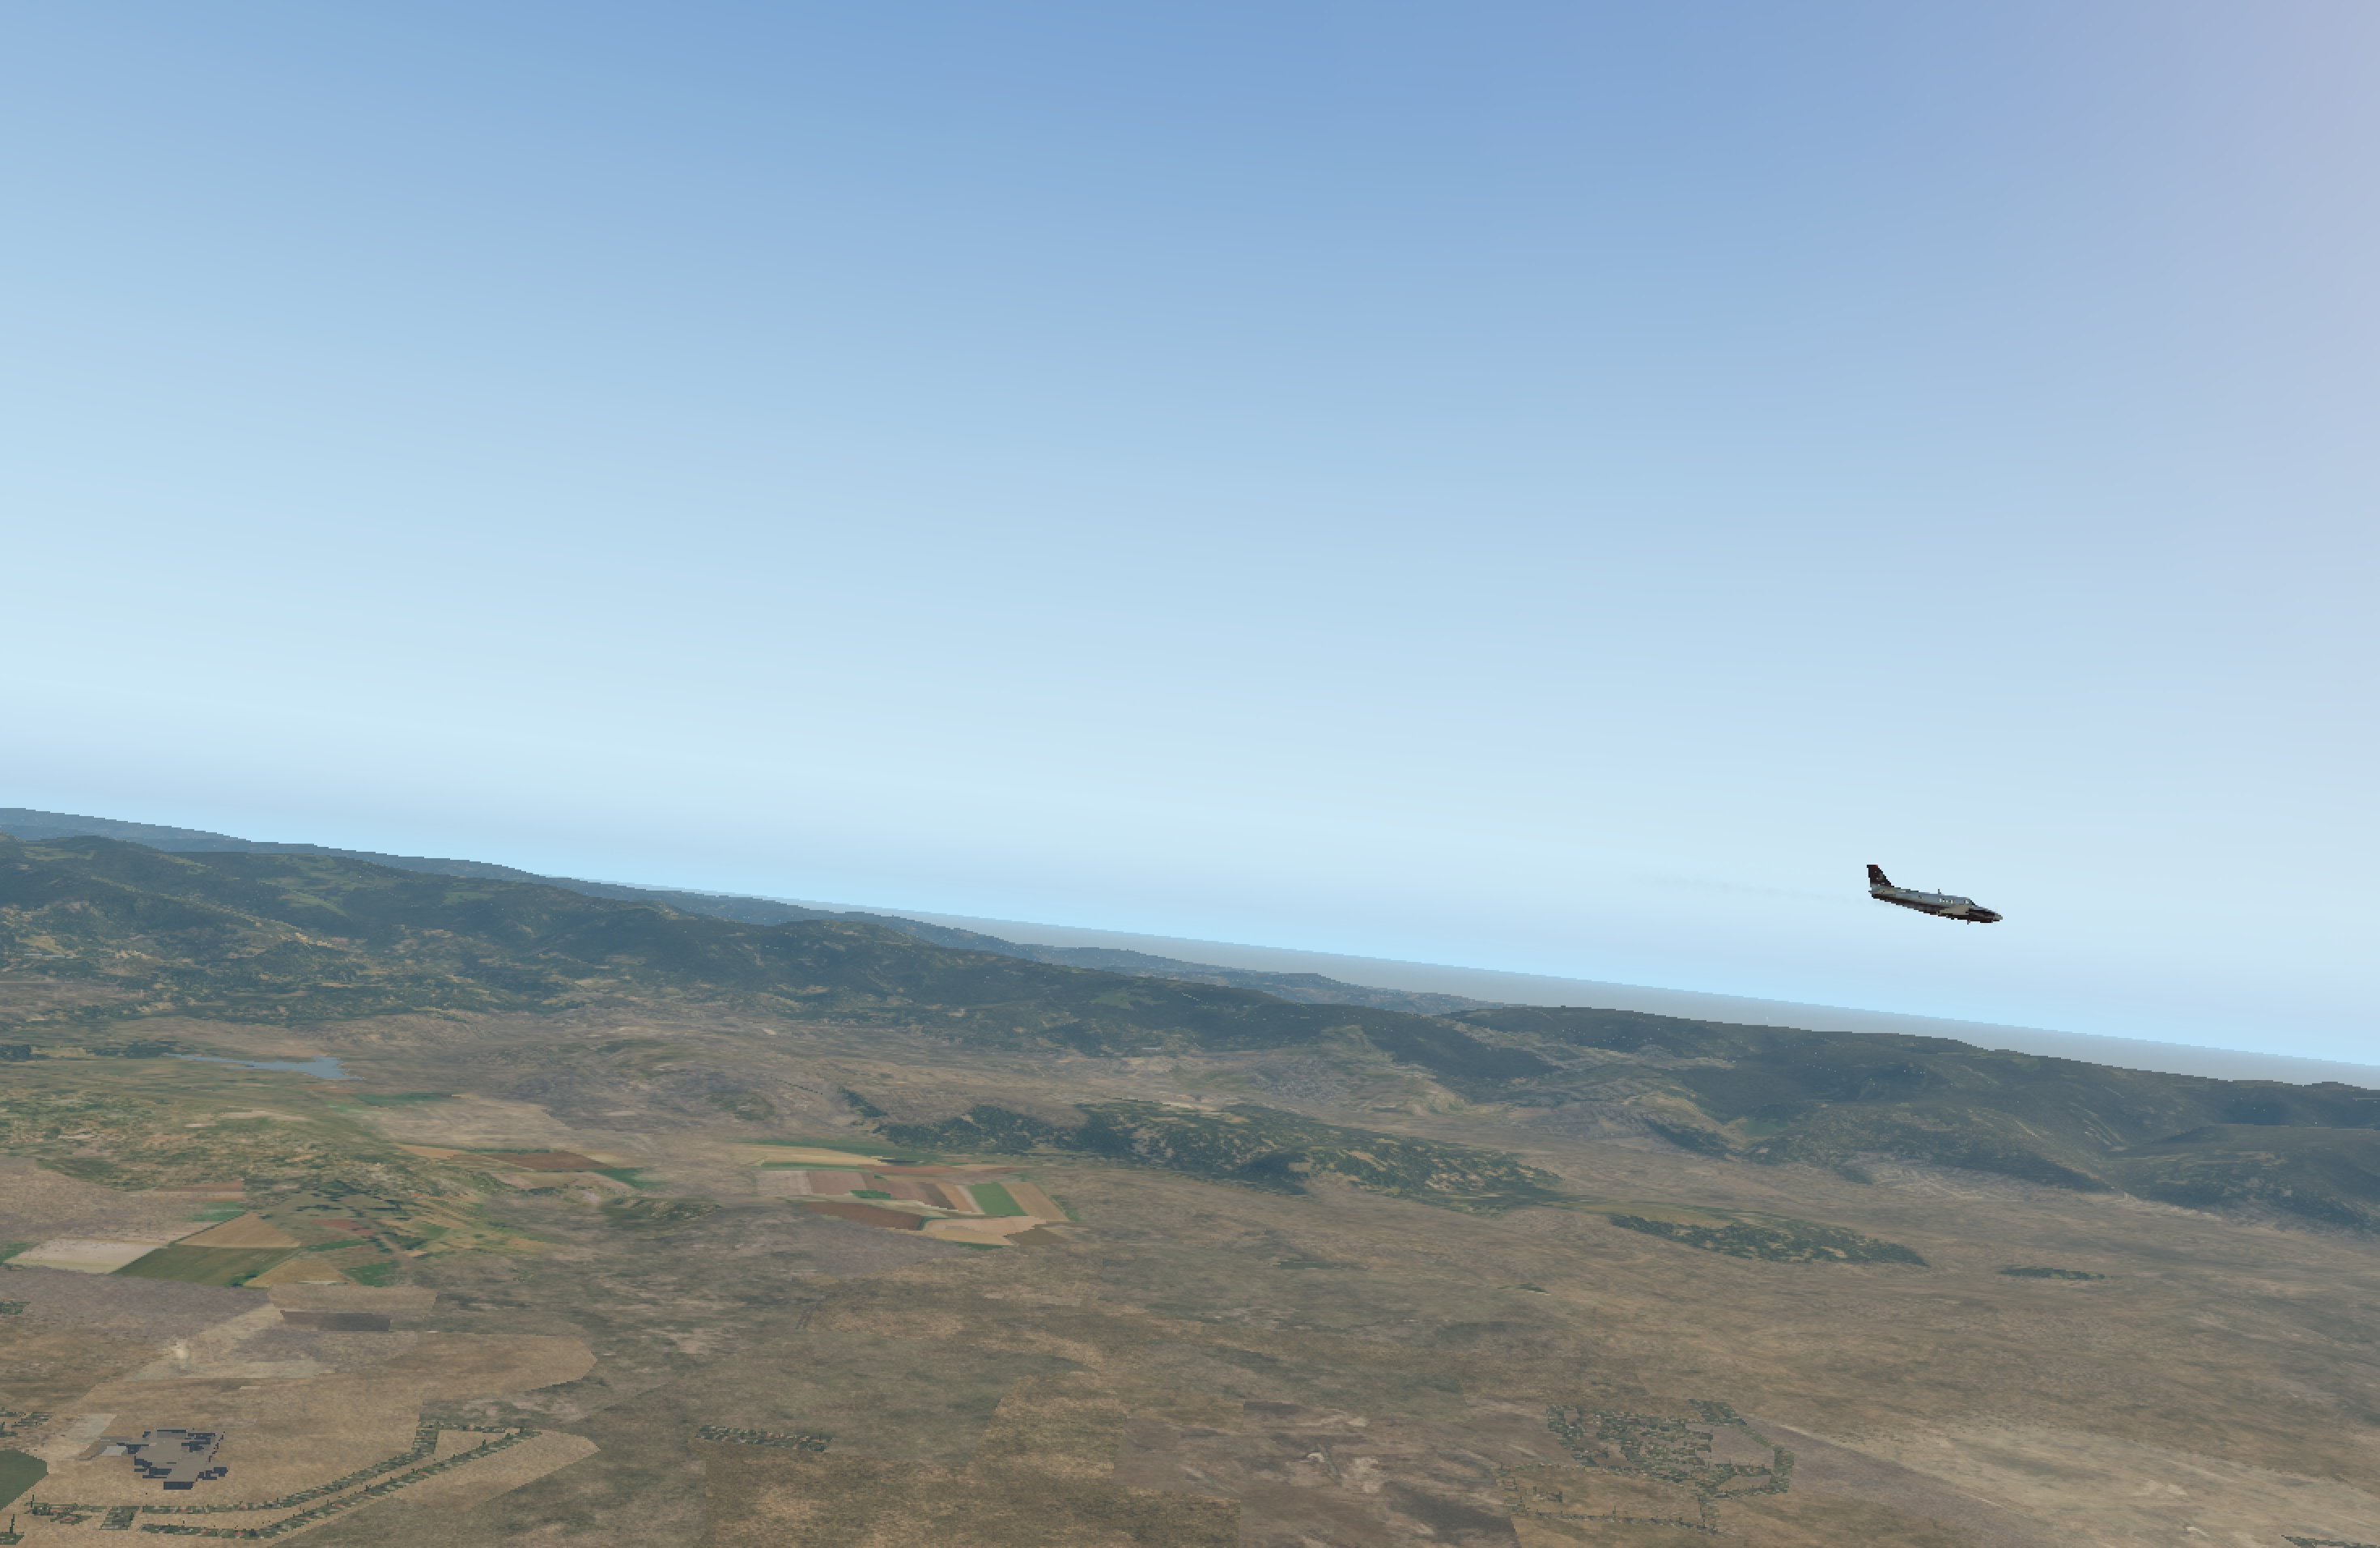aircraft: (1865, 882, 2049, 951)
